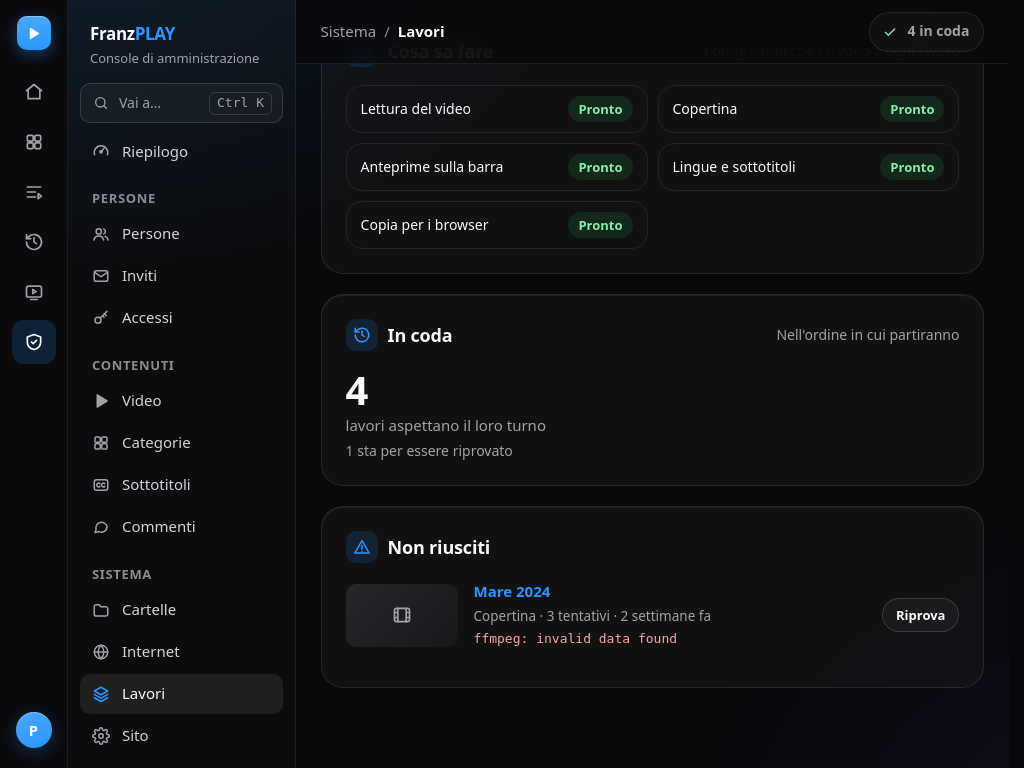
Test: jobs page › retries a failed job and shows the queue again
(page scrolled)
Click the button with aria-label "Riprova Copertina di Mare 2024" at (921, 615), box [882,598,960,632]
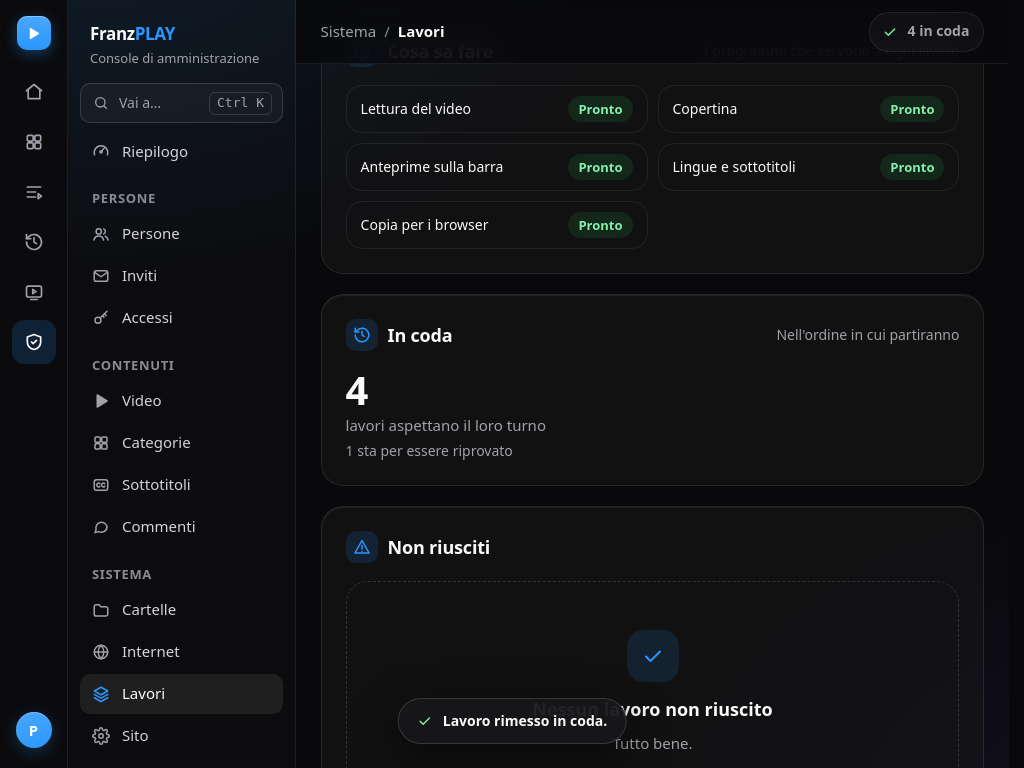
Expected: the heading "Nessun lavoro non riuscito" is shown, [532,696,773,722]
